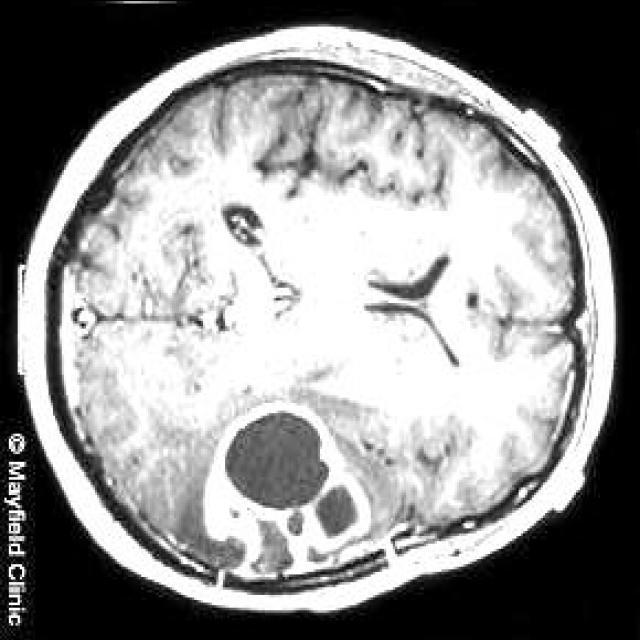tumor: (210, 402, 380, 568)
